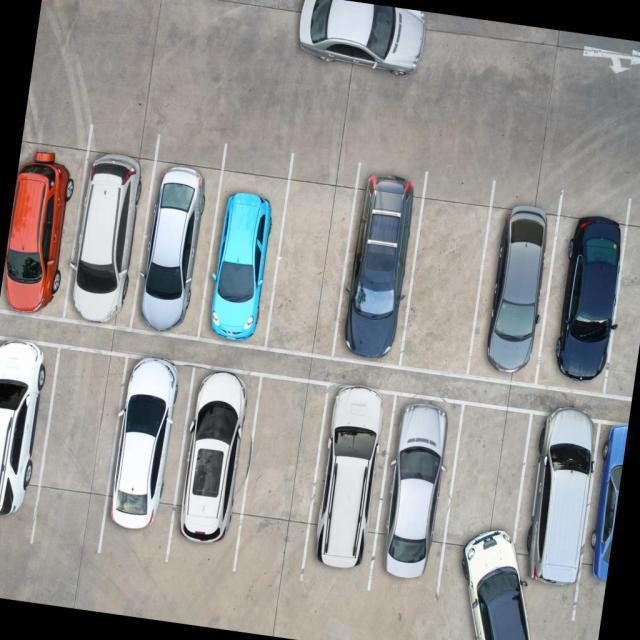car: (534, 209, 632, 400), (128, 151, 223, 335), (467, 191, 562, 374), (371, 395, 464, 575), (65, 142, 158, 319), (0, 136, 90, 318), (510, 406, 602, 584), (443, 403, 532, 581), (339, 172, 425, 352), (111, 356, 195, 540), (206, 164, 293, 340), (306, 386, 394, 560), (178, 370, 260, 542), (0, 336, 62, 518), (579, 416, 629, 584)
free: (268, 162, 360, 347), (403, 180, 488, 377), (34, 352, 124, 538), (235, 373, 324, 546), (606, 216, 640, 404)
